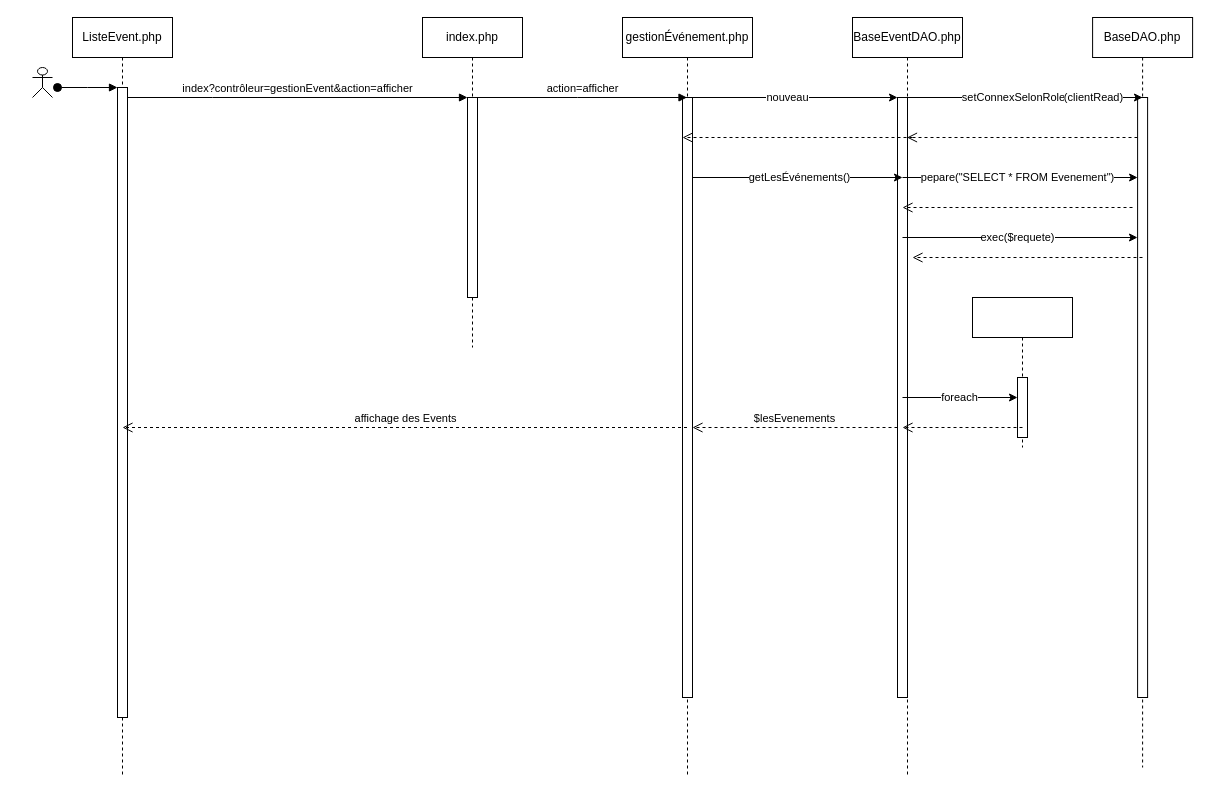
The diagram is 1211 pixels wide and 795 high, and some of its shapes have lost their labels. Each missing label, with the centre of its shape:
utilisateur: the point at 42,82
Événement.php: the point at 1022,372
